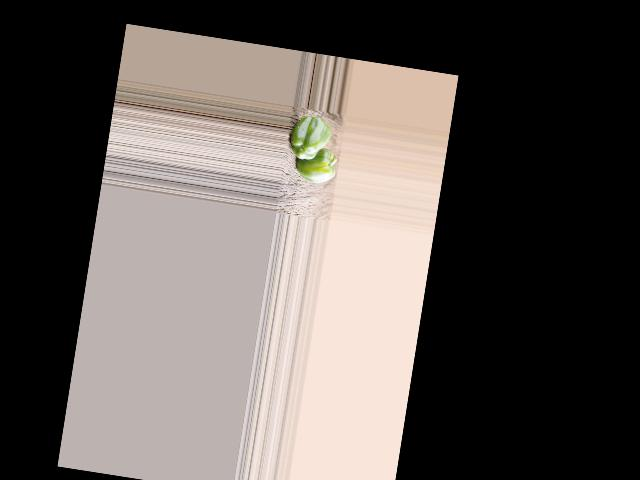bell_pepper: (289, 114, 333, 164)
